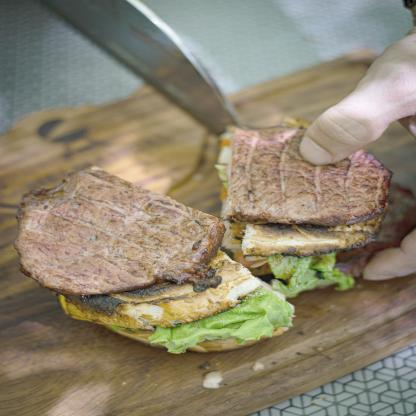Carne: (11, 161, 220, 292), (230, 128, 378, 213)
